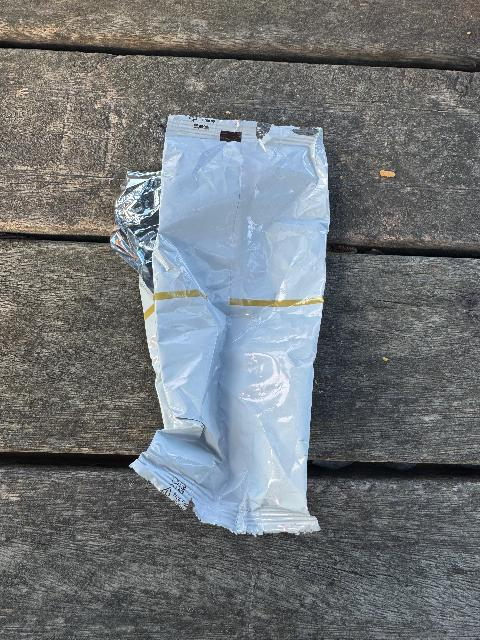Plastik: (94, 108, 350, 543)
